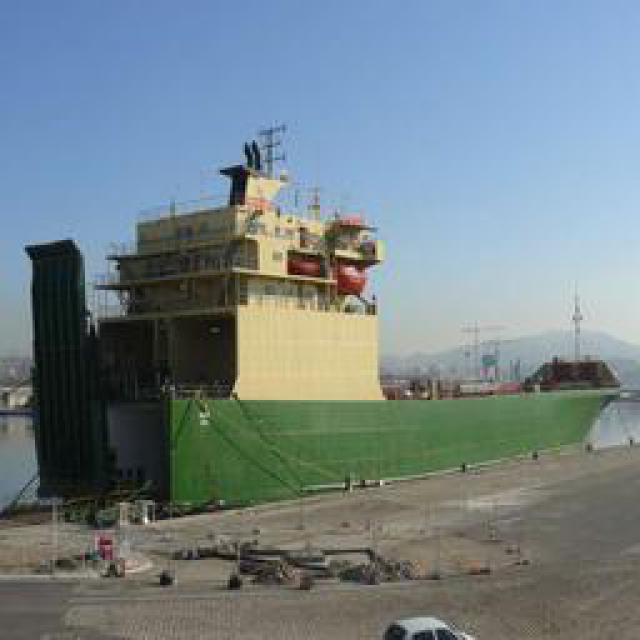Ship: (12, 98, 640, 537)
